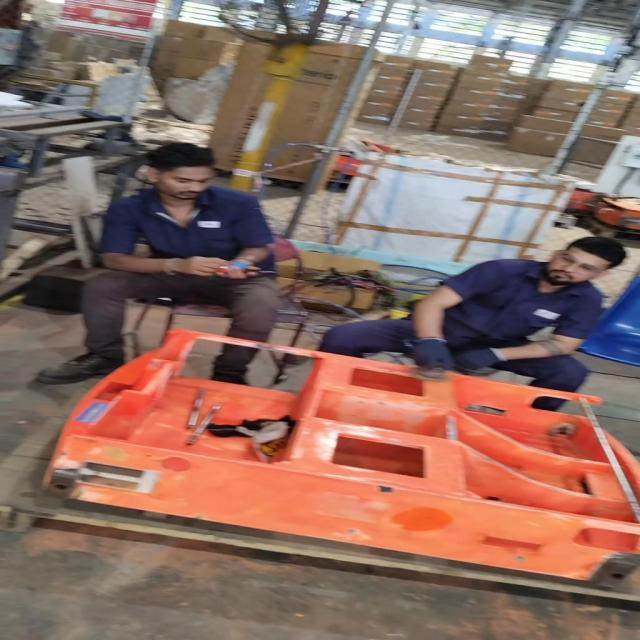Gloves-Detection: (417, 337, 498, 378)
